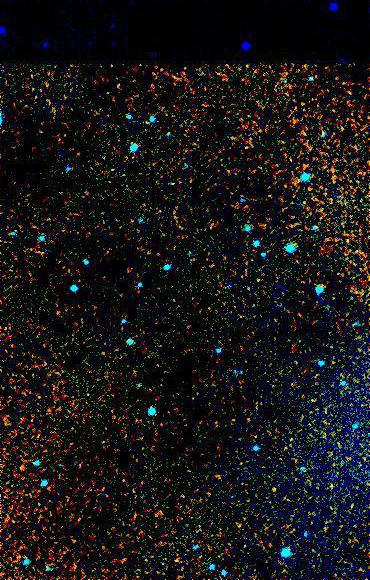star: (259, 476, 289, 506)
